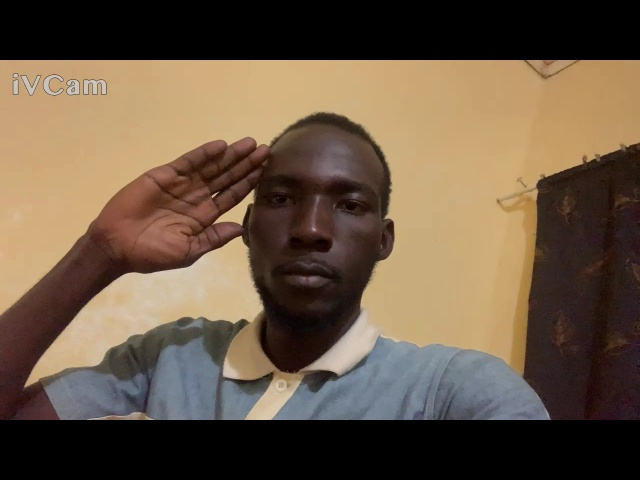bonjour: (72, 130, 278, 298)
